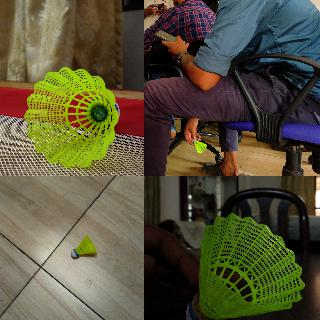shuttlecock: (184, 212, 304, 319), (23, 68, 118, 168), (69, 235, 97, 259), (192, 138, 206, 152)
